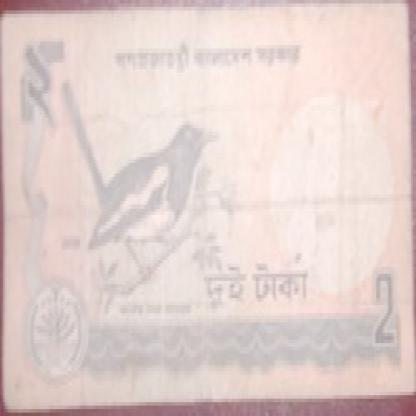two taka: (195, 246, 316, 326), (15, 42, 67, 128), (374, 270, 401, 354)
